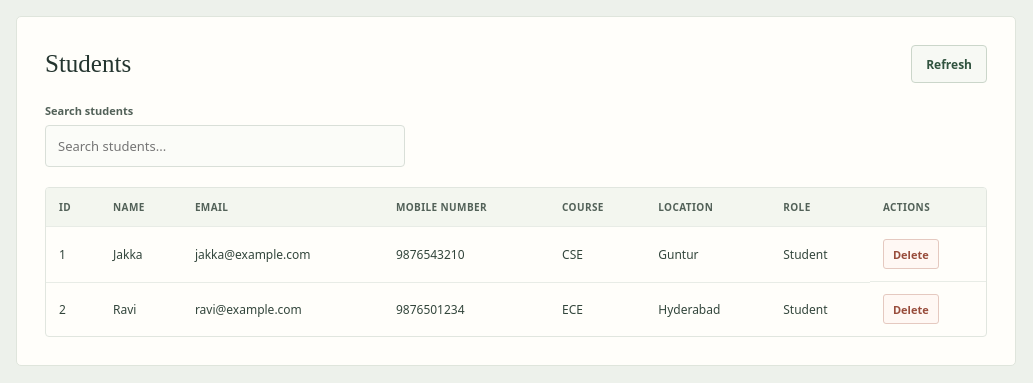
StudentsTable › deletes a student after confirmation
Expected: the text "Jakka" is shown, top-left (100, 226), bottom-right (182, 282)
Click the button "Delete" in the row of "jakka@example.com" at (911, 254), box top-left (883, 239), bottom-right (939, 269)
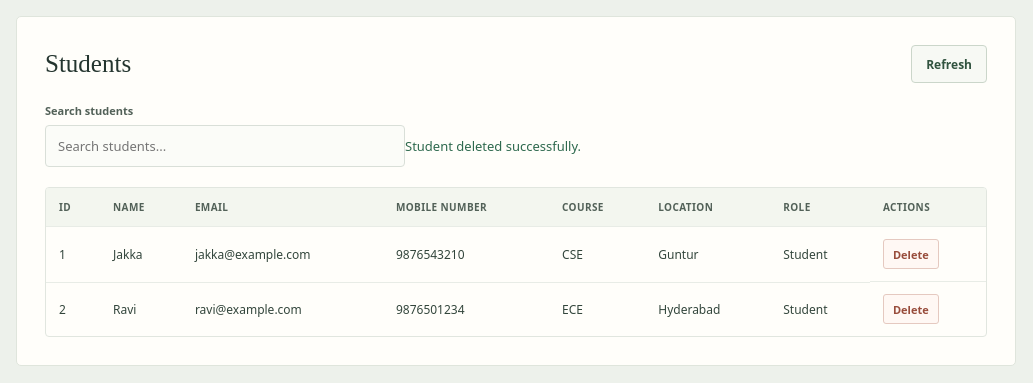
Expected: the text "Student deleted successfully." is shown, top-left (405, 137), bottom-right (581, 155)
